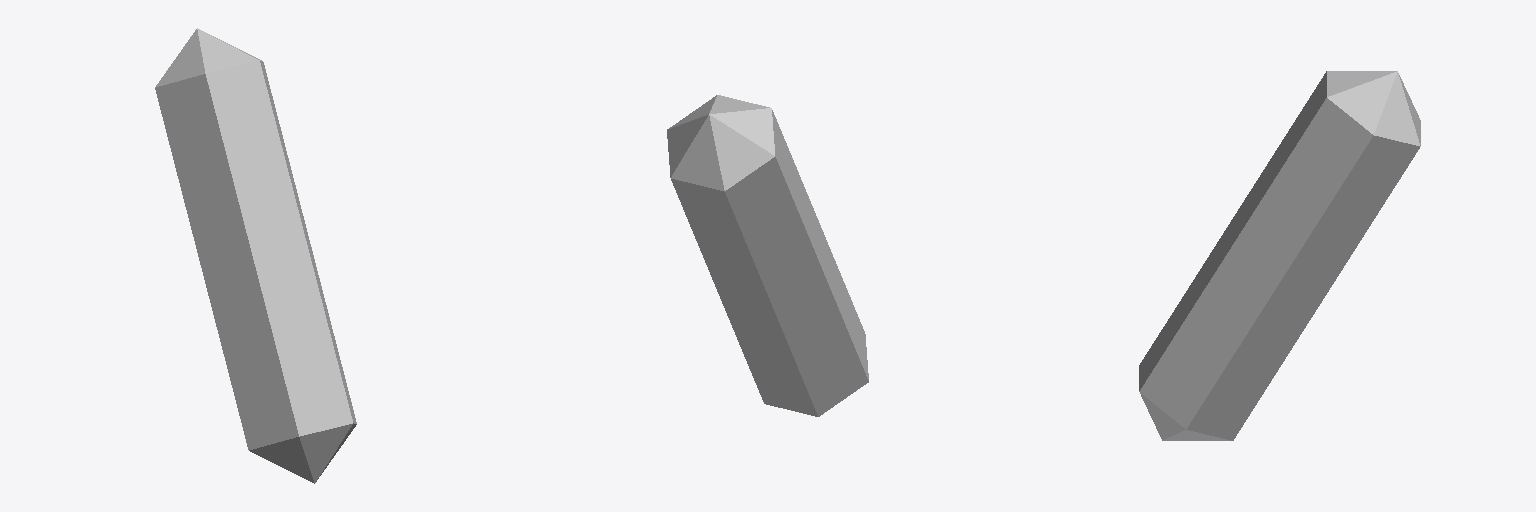
File: hex_crystal_30_big.obj
3 views of the same model, side by side, from view 1: azimuth 30°, elevation 25°; view 2: azimuth 150°, elevation 25°; view 3: azimuth 270°, elevation 25° (orthographic).
Parts seen in each view (by area): view 1: Cylinder; view 2: Cylinder; view 3: Cylinder.
Part boxes in pixels (left/top/right/bottom): Cylinder: left=155, top=28, right=356, bottom=483; Cylinder: left=667, top=95, right=868, bottom=416; Cylinder: left=1139, top=71, right=1420, bottom=440.
Bounding box in the file's own units: 1 × 3.25 × 2.25.